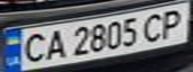0: (106, 18, 127, 51)
2: (66, 24, 93, 57)
5: (121, 15, 145, 47)
8: (87, 20, 109, 53)
A: (42, 27, 69, 61)
C: (15, 29, 51, 64), (136, 10, 169, 43)
P: (154, 7, 190, 40)
